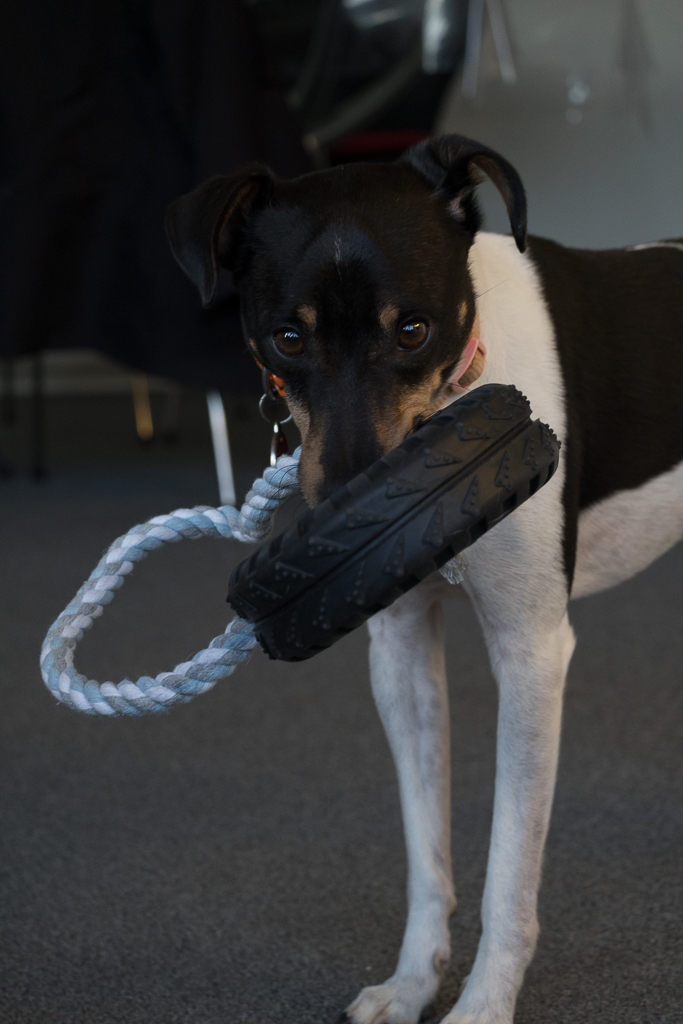Dog: (133, 121, 683, 1024)
